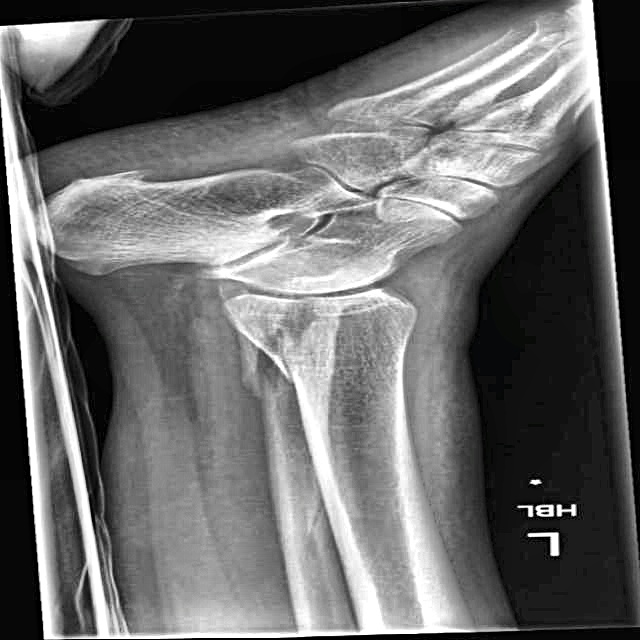Oblique Displaced: (206, 280, 332, 417)
